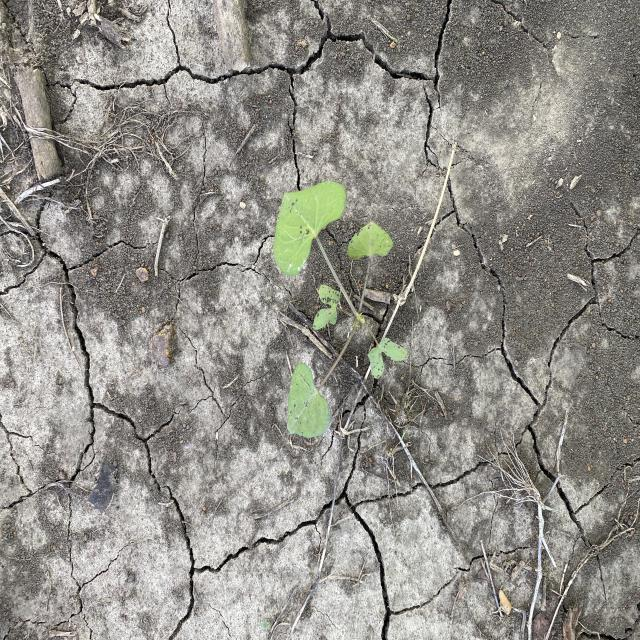MorningGlory: (272, 180, 409, 440)
